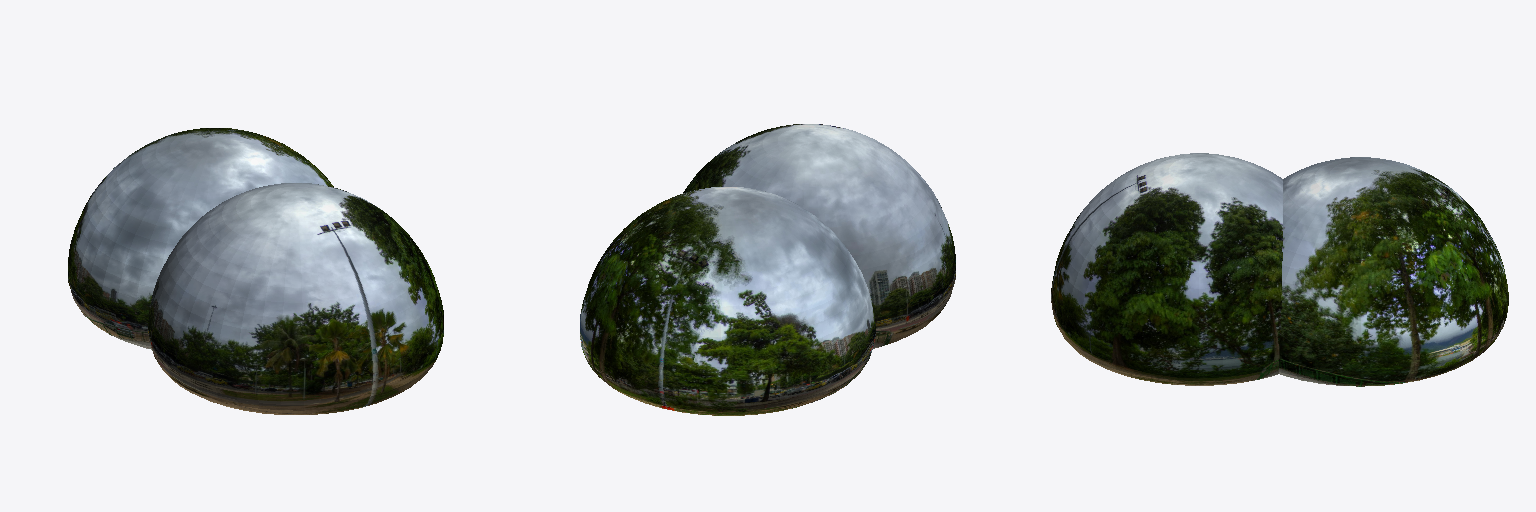
3 views of the same model, side by side, from view 1: azimuth 30°, elevation 25°; view 2: azimuth 150°, elevation 25°; view 3: azimuth 270°, elevation 25° (orthographic).
Parts seen in each view (by area): view 1: sky; view 2: sky; view 3: sky.
Part boxes in pixels (x1,y1,x2,y2): sky: (68,128,443,414); sky: (580,124,955,415); sky: (1051,153,1508,386).
Size of the model in its own units: 1515 by 1001 by 2336.
3 materials, 3 textured.